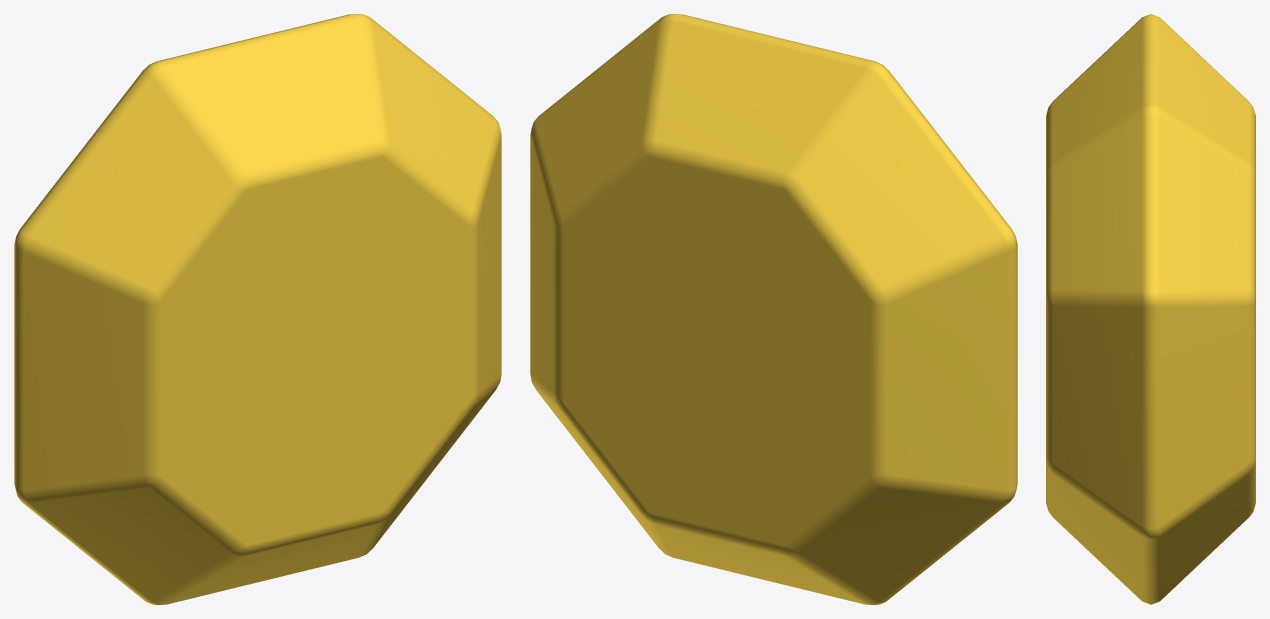
The picture shows the model from 3 angles, left to right: view 1: azimuth 30°, elevation 25°; view 2: azimuth 150°, elevation 25°; view 3: azimuth 270°, elevation 25°; orthographic projection. The views are drawn at different scales.
Parts seen in each view (by area): view 1: model_0.094; view 2: model_0.094; view 3: model_0.094.
Part boxes in pixels (x1,y1,x2,y2): model_0.094: (14,14,501,604); model_0.094: (530,14,1017,604); model_0.094: (1046,14,1255,604).
Bounding box in the file's own units: 3.3 × 3.54 × 1.35.
